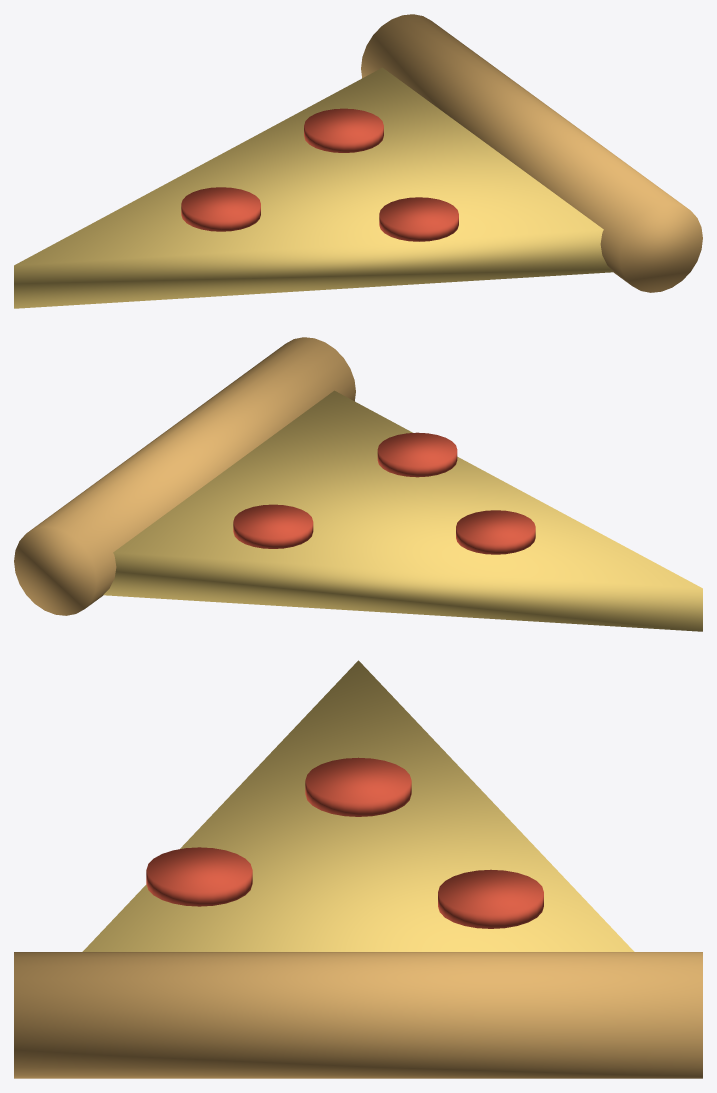
The model's file is SM_OldPizza.glb.
The picture shows the model from 3 angles, top to bottom: view 1: azimuth 30°, elevation 25°; view 2: azimuth 150°, elevation 25°; view 3: azimuth 270°, elevation 25°; orthographic projection. The views are drawn at different scales.
Parts seen in each view (by area): view 1: SM_OldPizza; view 2: SM_OldPizza; view 3: SM_OldPizza.
Part boxes in pixels (box(x1,y1,x2,y2)): SM_OldPizza: box(14, 14, 702, 308); SM_OldPizza: box(14, 337, 702, 631); SM_OldPizza: box(14, 660, 702, 1078).
Bounding box in the file's own units: 0.162 × 0.024 × 0.13.
